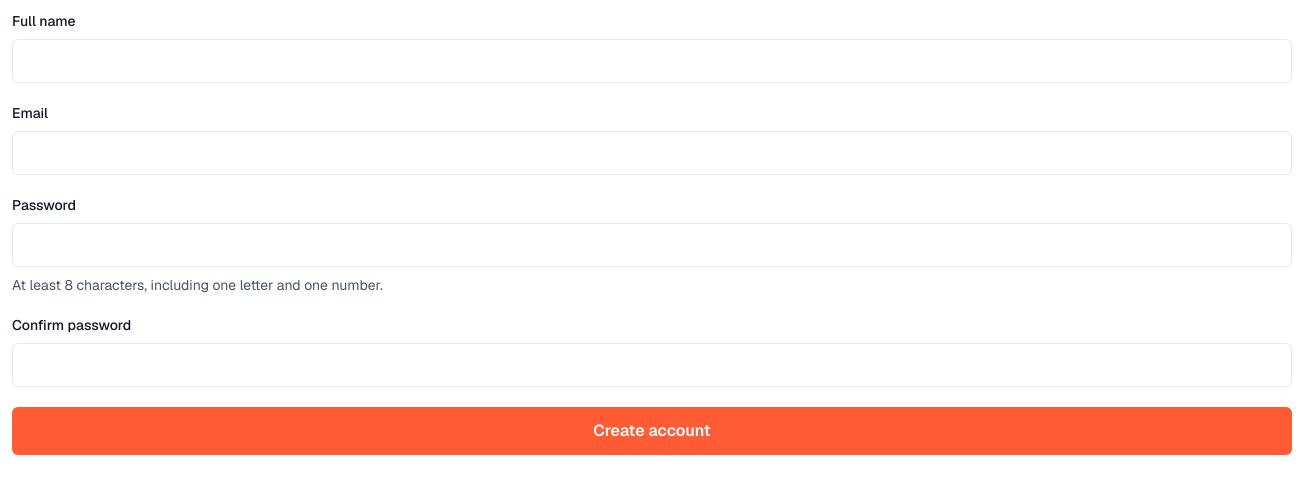
Test: RegisterForm › renders a duplicate-email error beneath the email input
The image size is (1304, 500).
Click the button "Create account": (652, 431) [12,407,1292,455]
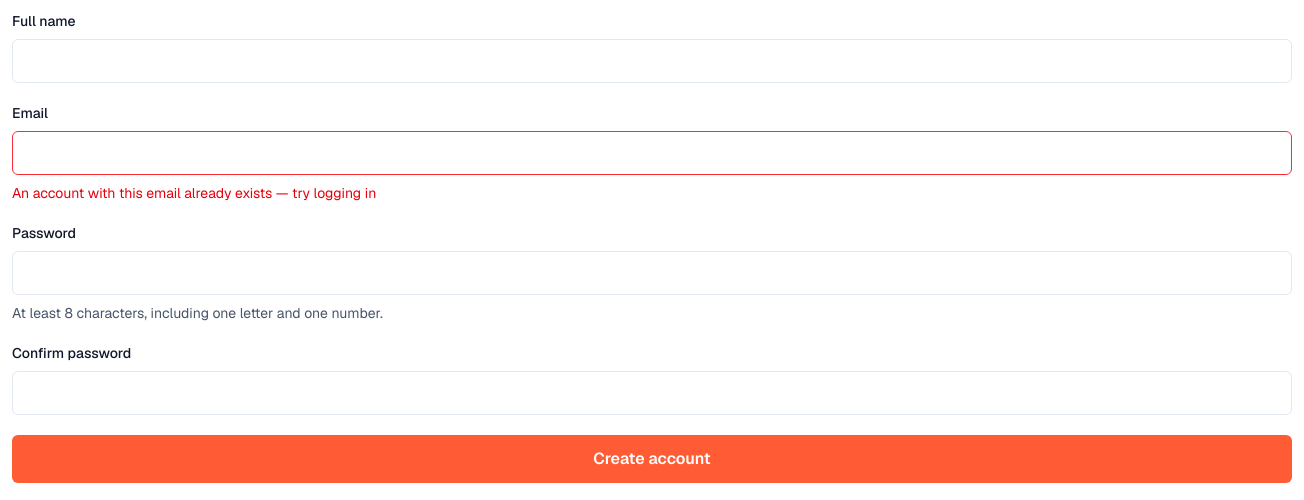
Check: the list item "An account with this email already exists — try logging in" is shown, box [12,184,376,202]
